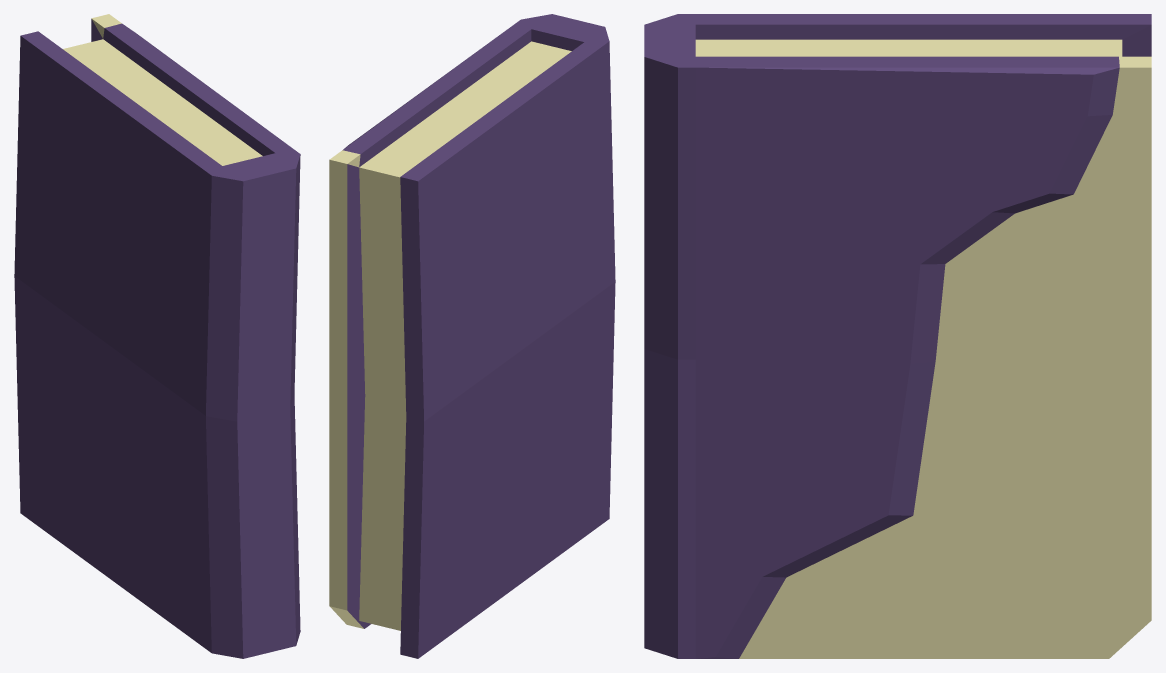
Rendered from book_worn.fbx.
3 views of the same model, side by side, from view 1: azimuth 30°, elevation 25°; view 2: azimuth 150°, elevation 25°; view 3: azimuth 270°, elevation 25° (orthographic). The views are drawn at different scales.
Visible parts, largest first — view 1: book_worn; view 2: book_worn; view 3: book_worn.
Boxes of the visible parts, box(x1,y1,x2,y2) form: book_worn: box(14, 14, 300, 658); book_worn: box(329, 14, 615, 658); book_worn: box(644, 14, 1151, 658).
Bounding box in the file's own units: 10.82 × 49.84 × 38.77.
